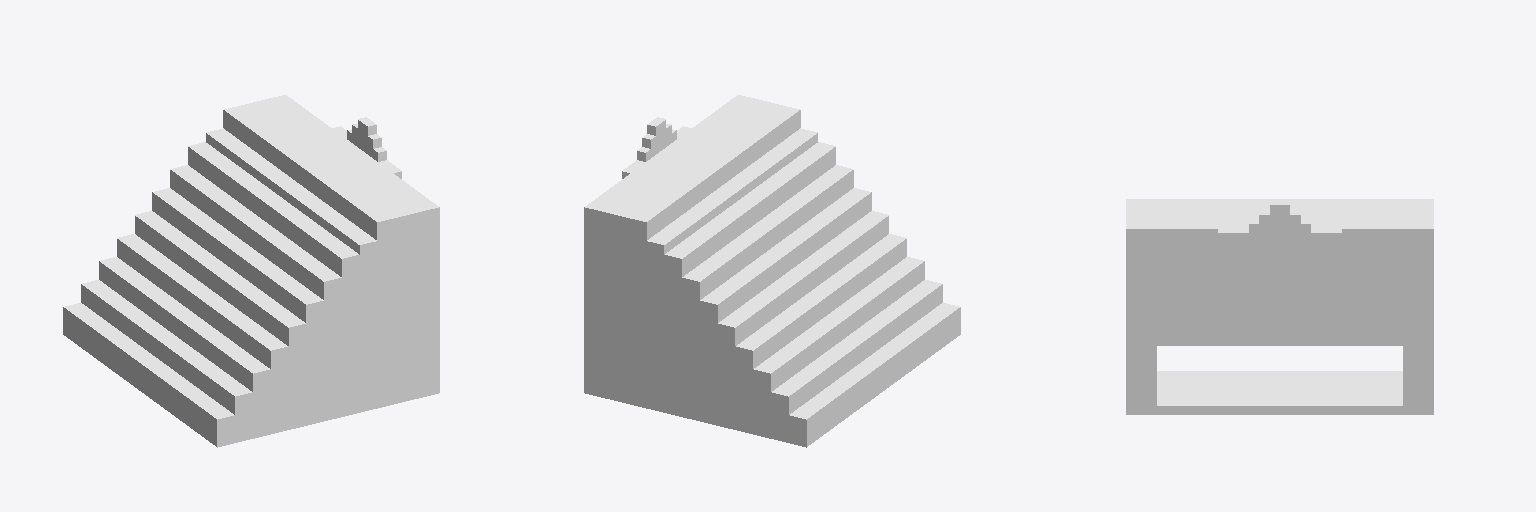
File: metro_01.obj
3 renders of one model, left to right at view 1: azimuth 30°, elevation 25°; view 2: azimuth 150°, elevation 25°; view 3: azimuth 270°, elevation 25°, orthographic.
Visible parts, largest first — view 1: object 1; view 2: object 1; view 3: object 1.
Part boxes in pixels (left/top/right/bottom): object 1: left=63, top=95, right=439, bottom=447; object 1: left=584, top=95, right=960, bottom=447; object 1: left=1126, top=199, right=1433, bottom=414.
Size of the model in its own units: 2.6 by 2.3 by 3.